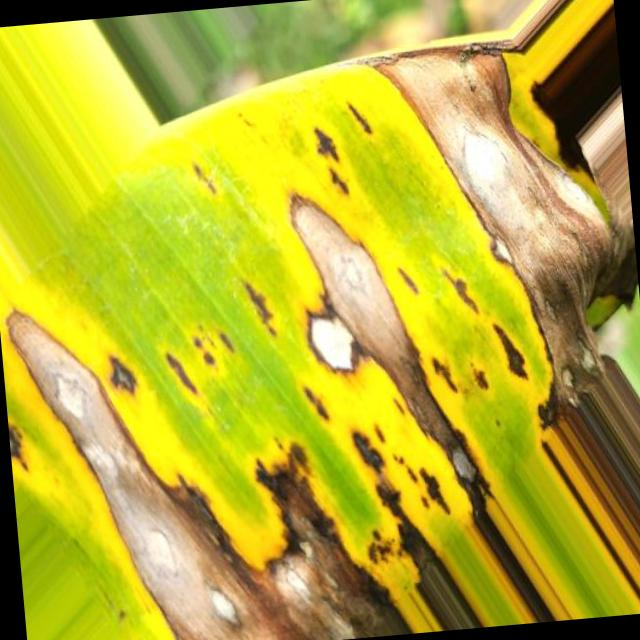Banana_Yellow_Sigatoka: (1, 278, 440, 640), (362, 0, 640, 328)
